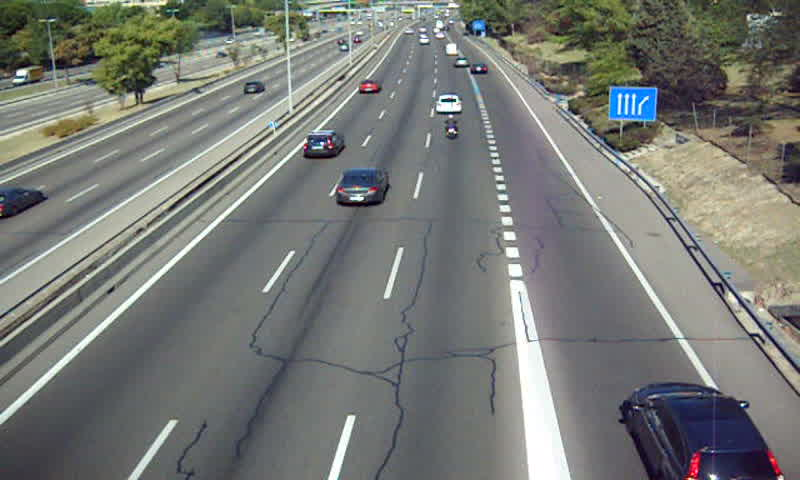car: (628, 382, 780, 480), (334, 168, 388, 206), (303, 131, 343, 157), (435, 94, 463, 115), (357, 80, 380, 95), (469, 63, 487, 74), (455, 56, 469, 68)
motorcycle: (443, 114, 460, 141)
